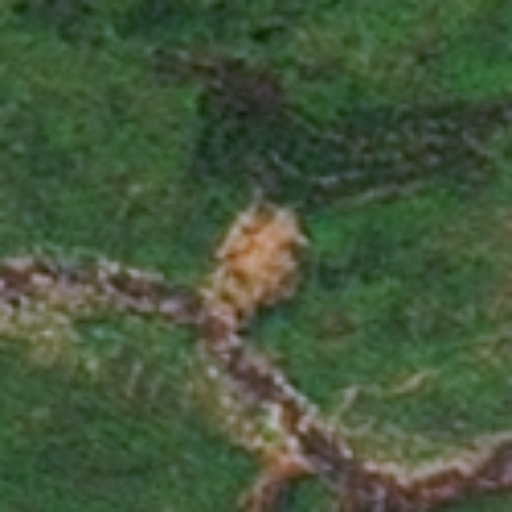landslide: (213, 198, 310, 315)
